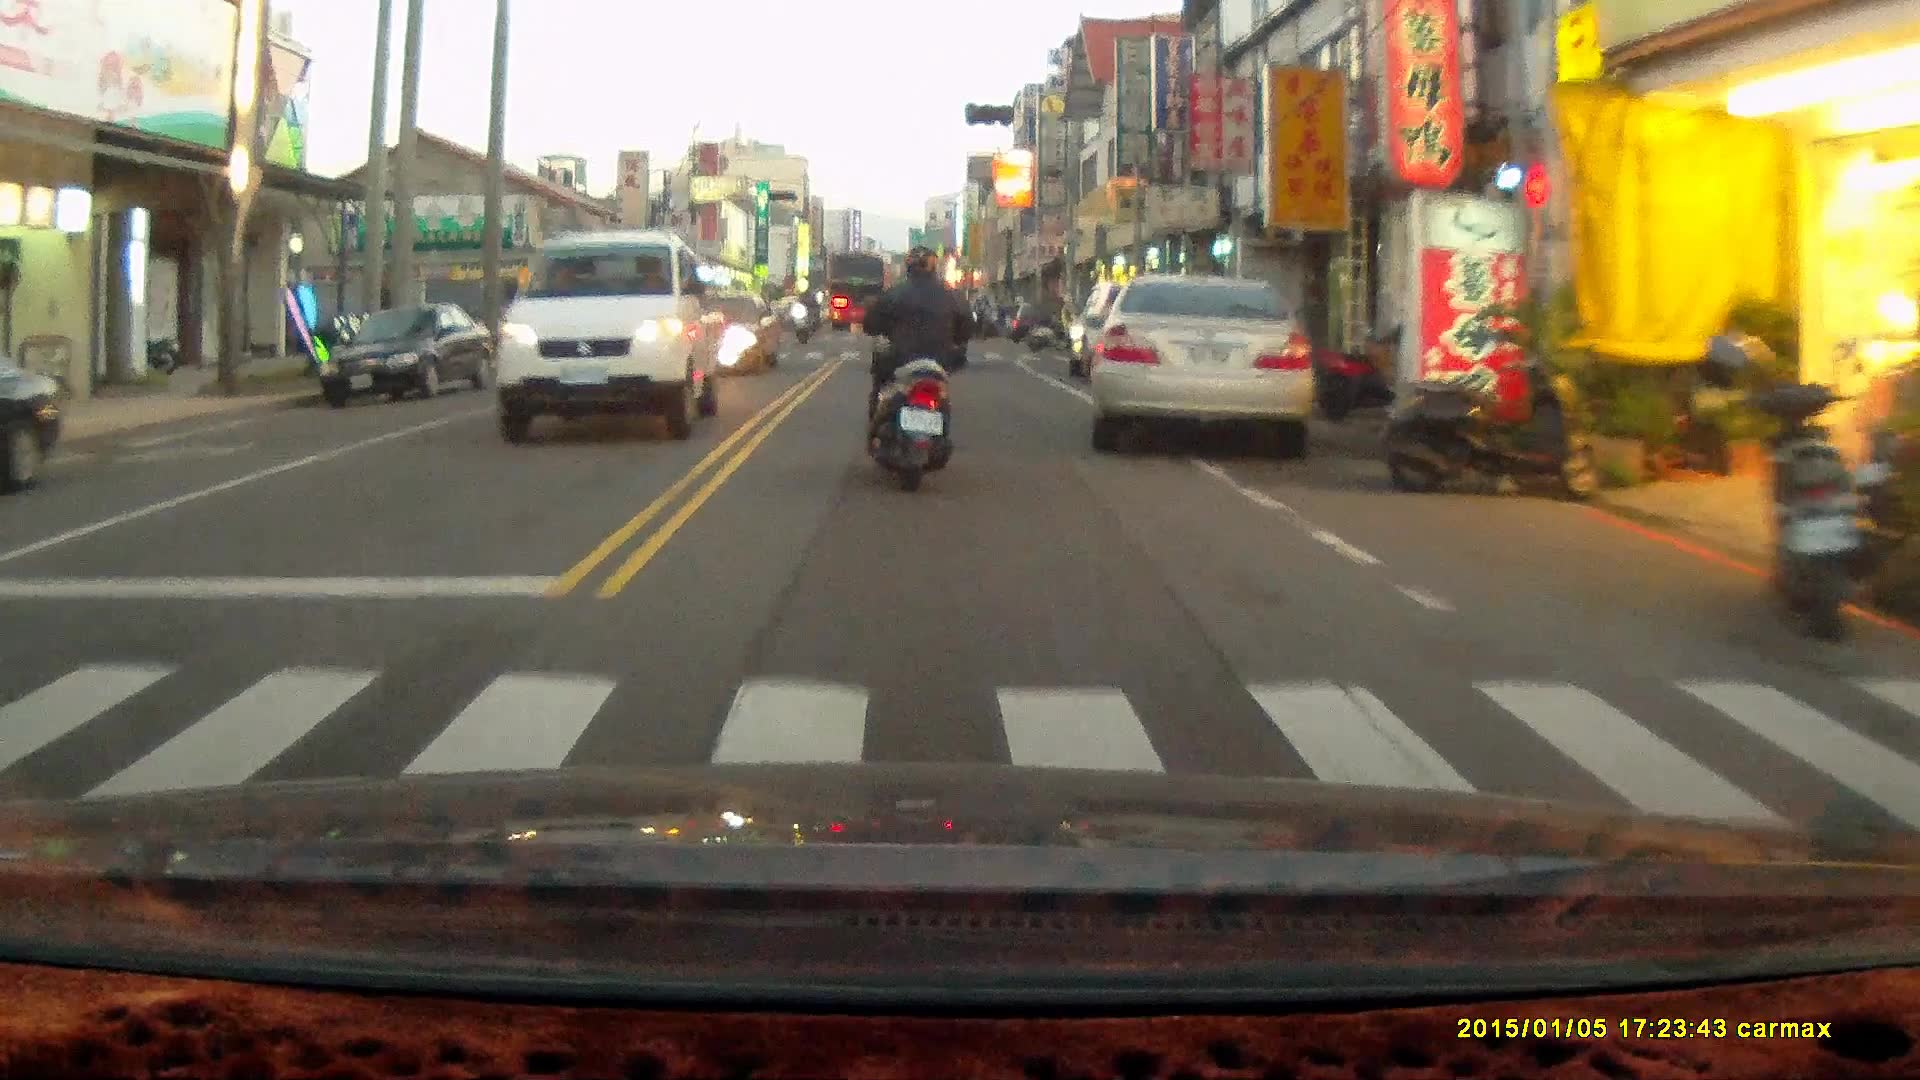rider: (857, 242, 978, 492)
vehicle: (491, 235, 716, 448), (1082, 272, 1317, 463), (317, 308, 491, 408), (1, 351, 67, 494), (823, 252, 887, 334)
